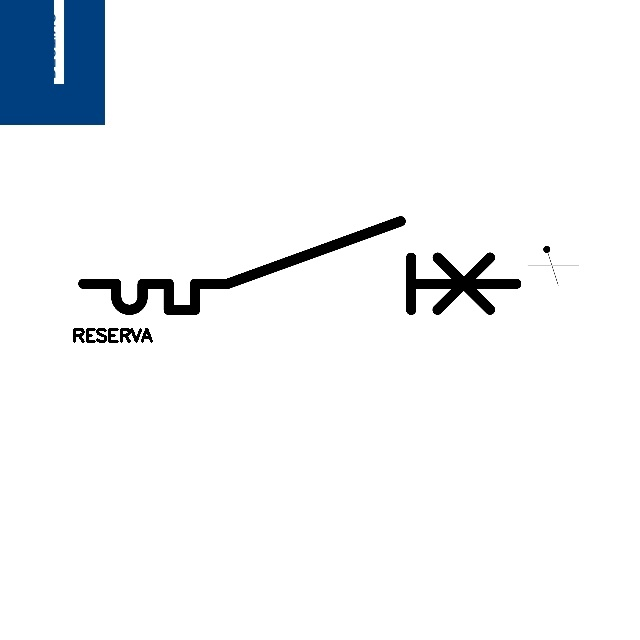interruptor_termomagnetico: (72, 210, 527, 321)
